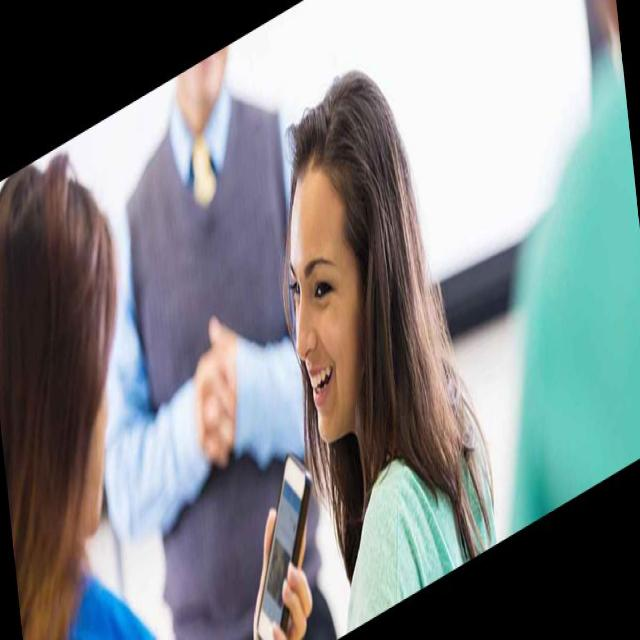phone: (256, 453, 313, 635)
